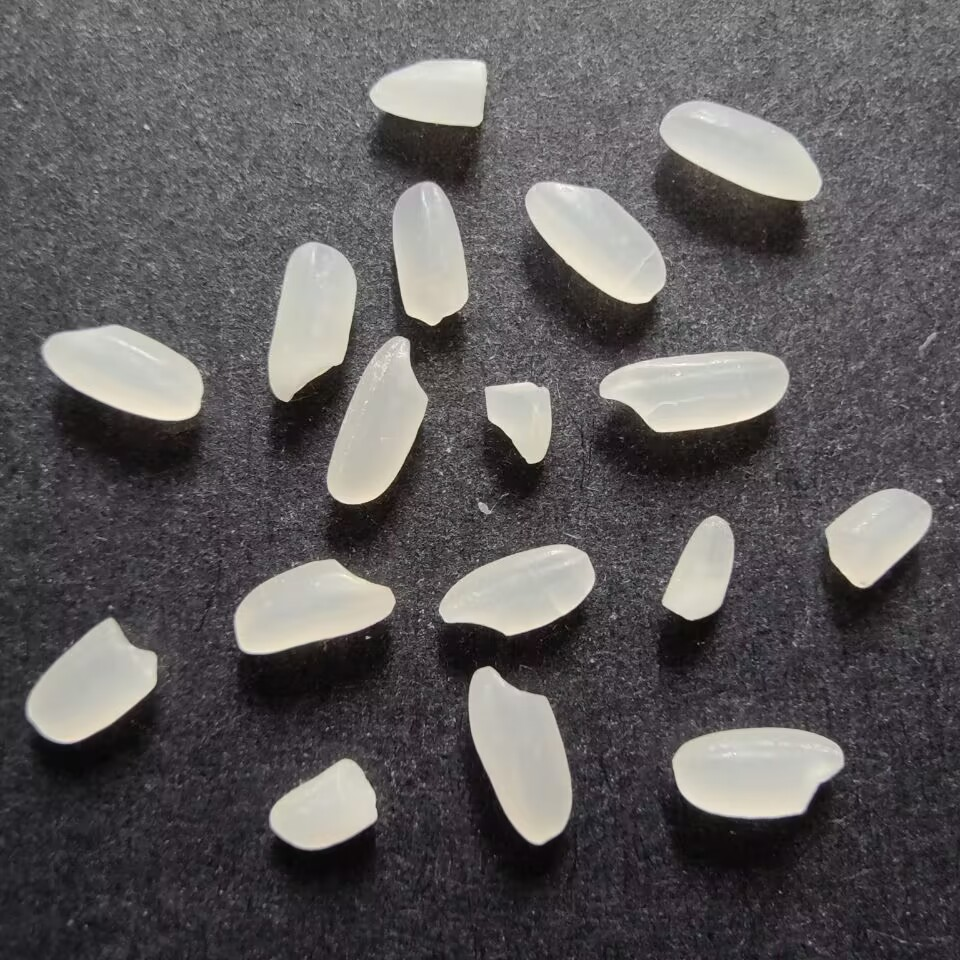broken: (24, 613, 161, 747), (818, 484, 934, 592), (262, 753, 382, 854), (363, 52, 492, 132), (662, 511, 738, 623), (477, 379, 560, 472)
rice: (466, 664, 578, 846), (522, 178, 670, 307), (321, 333, 430, 507), (37, 321, 209, 427), (655, 97, 824, 204), (669, 725, 849, 823), (228, 556, 398, 659), (596, 349, 790, 435), (263, 238, 360, 404), (436, 542, 599, 638), (387, 178, 471, 327)
